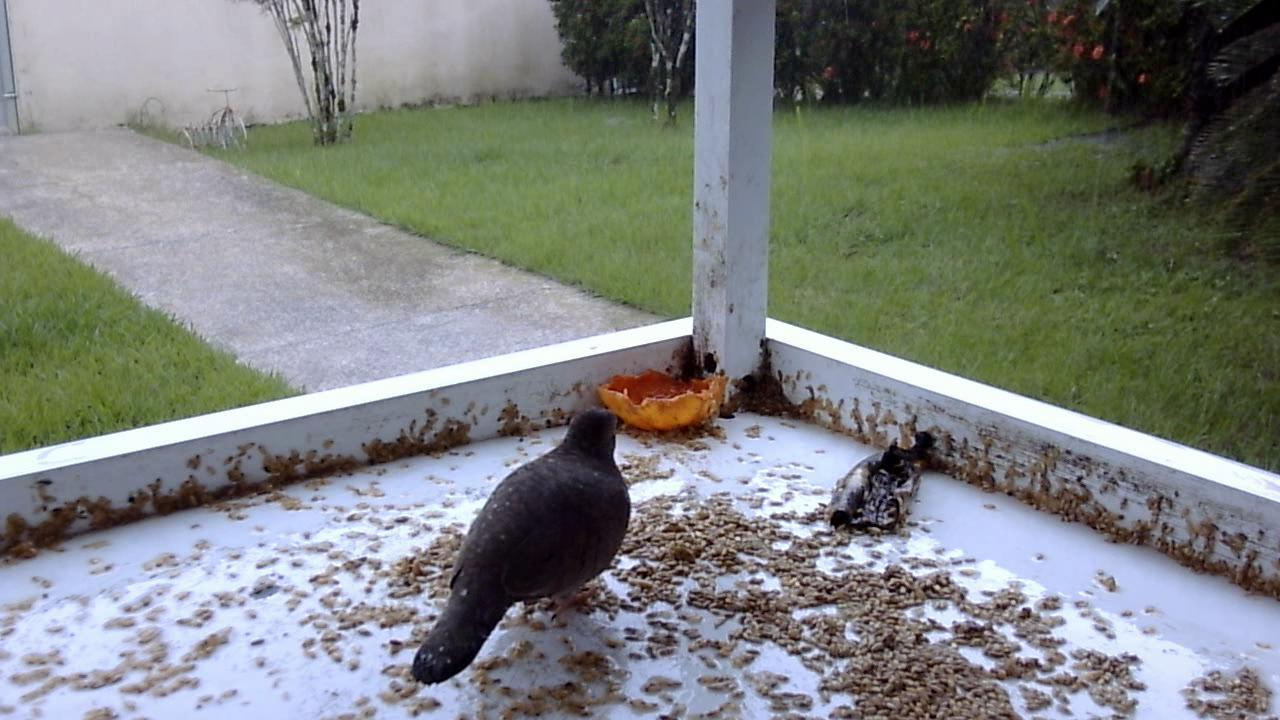rolinha: (400, 397, 644, 682)
